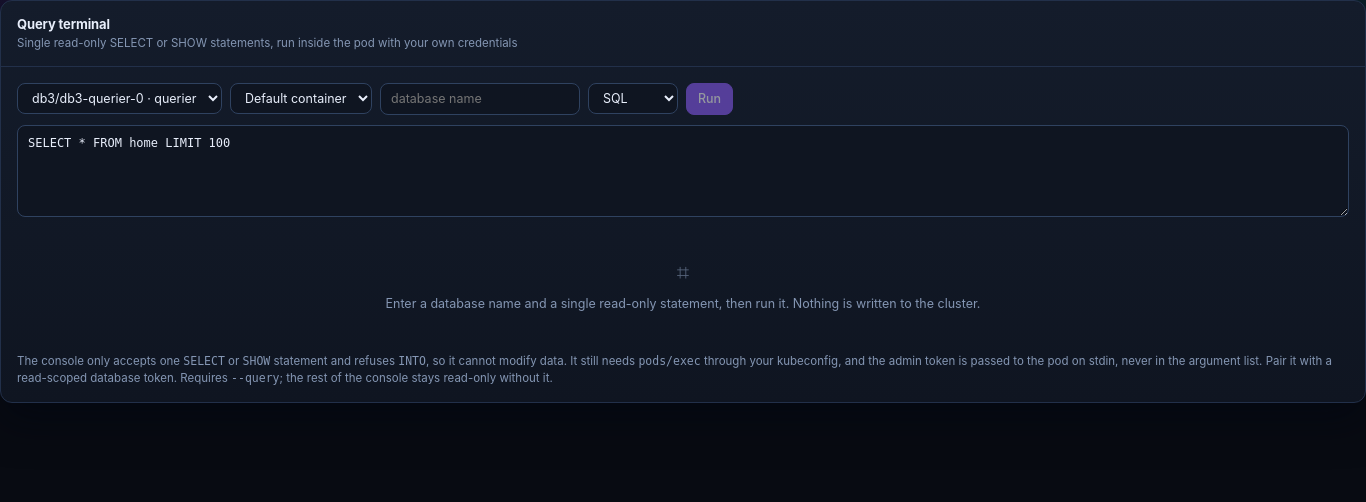
shows a database error from a successful response
Type "mydb" into the field labelled "database name". click: [480, 99]
box: [380,82,580,115]
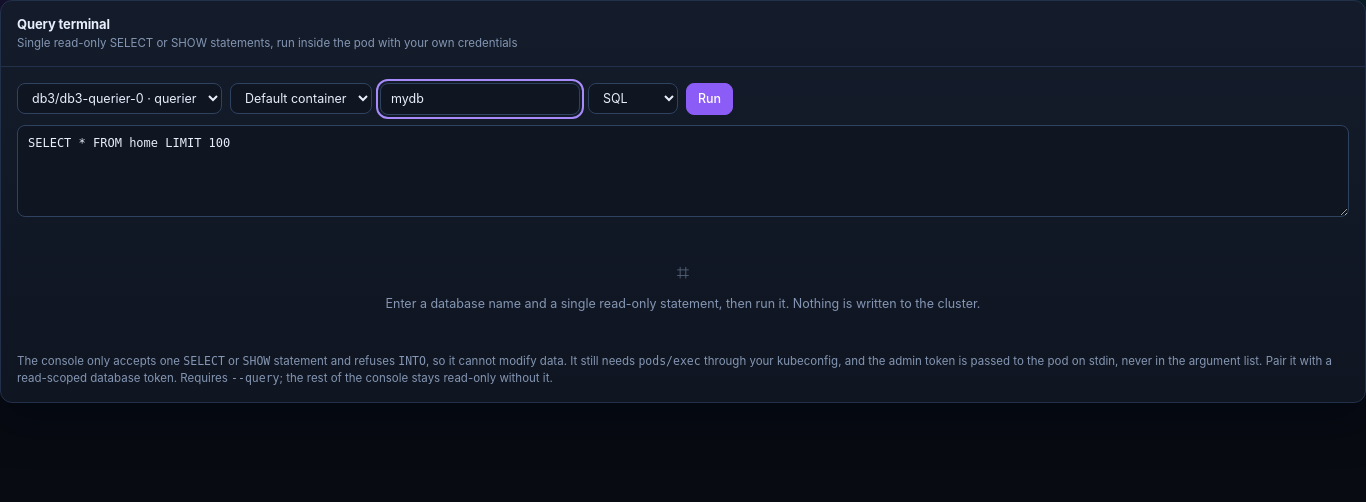
Click the button "Run". click: [710, 99]
box: [686,82,733,115]
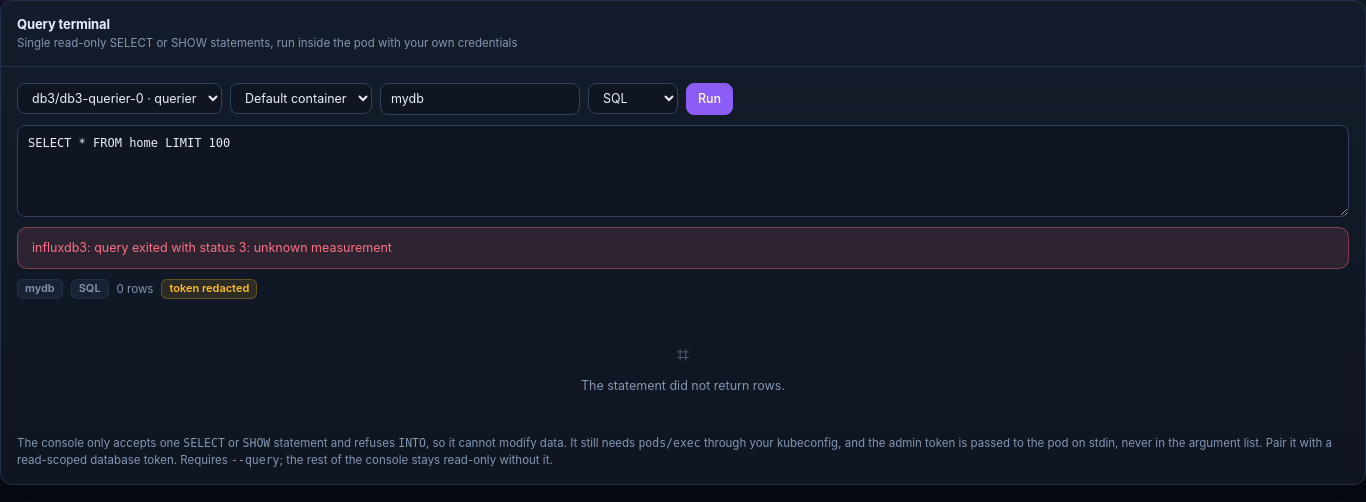
Check: the text "influxdb3: query exited with status 3: unknown measurement" is shown, box [17,227,1349,269]
